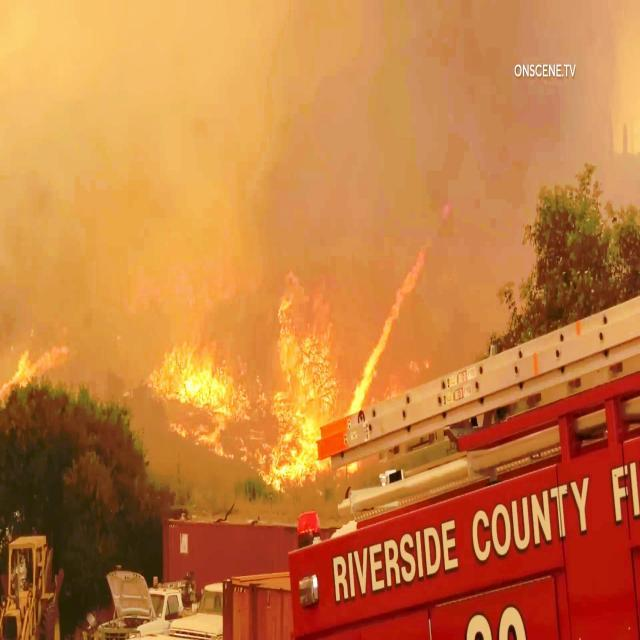Fire: (263, 246, 337, 460), (150, 322, 251, 460), (12, 344, 58, 399)
Smoke: (348, 38, 480, 258)
